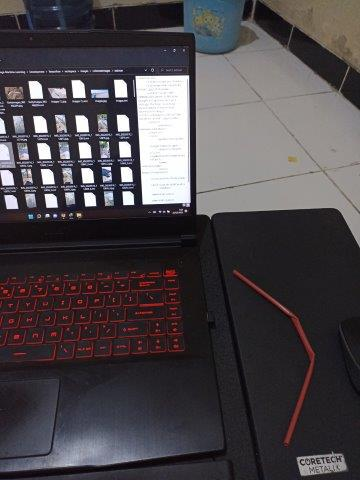sedotan: (232, 269, 315, 446)
